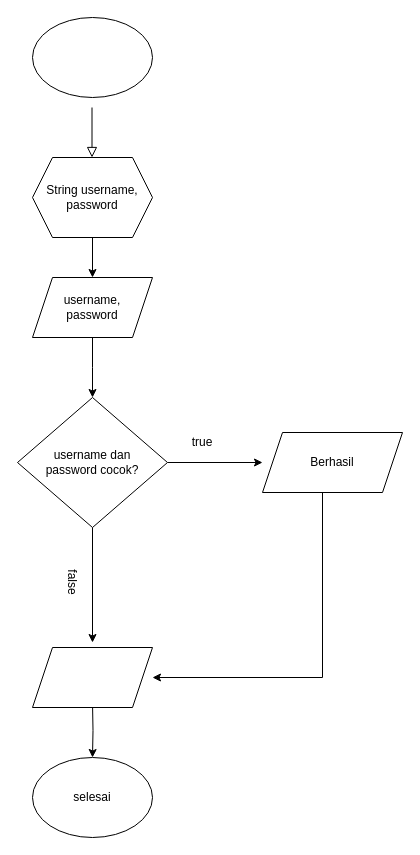
This 420x855 diagram has some shape labels left out. Each missing label, with the box of its shape:
Mulai: (32, 16, 152, 98)
username dan password salah: (32, 646, 152, 708)
